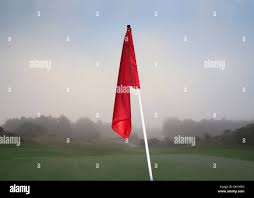Flag: (107, 25, 141, 140)
